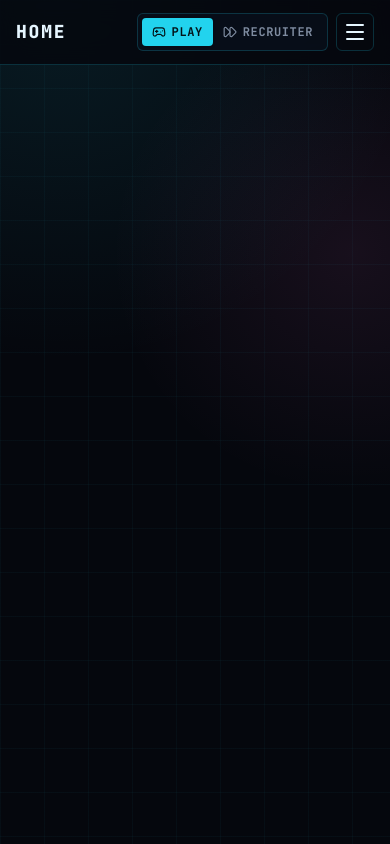
Test: Navbar Component › opens and closes the mobile menu
This screenshot has width=390, height=844.
Click the button named "Open menu" at (355, 32), box [336,13,374,51]
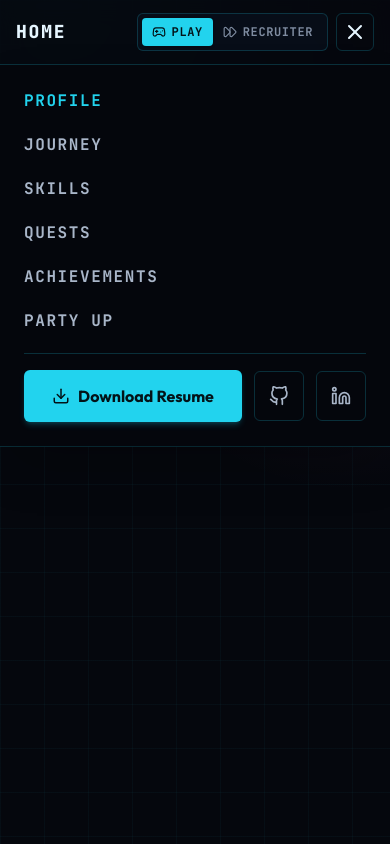
Result: the button named "Open menu" is expanded at [336,13,374,51]
Result: the link "Download Resume" is shown at [24,370,242,422]
Press Escape
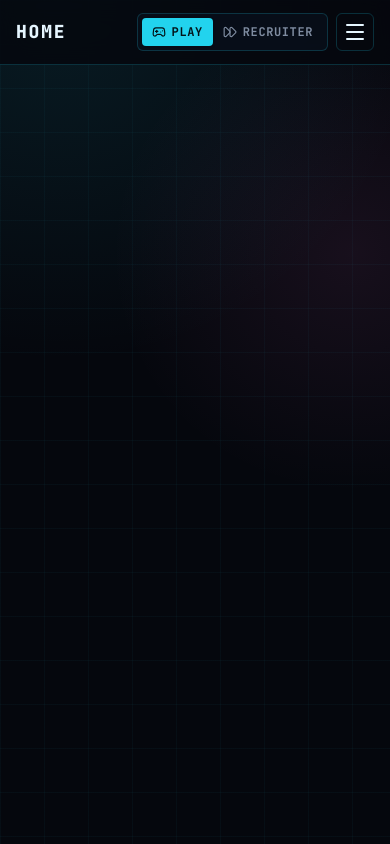
Result: the button named "Open menu" is collapsed at [336,13,374,51]
Result: the link "Download Resume" is gone
